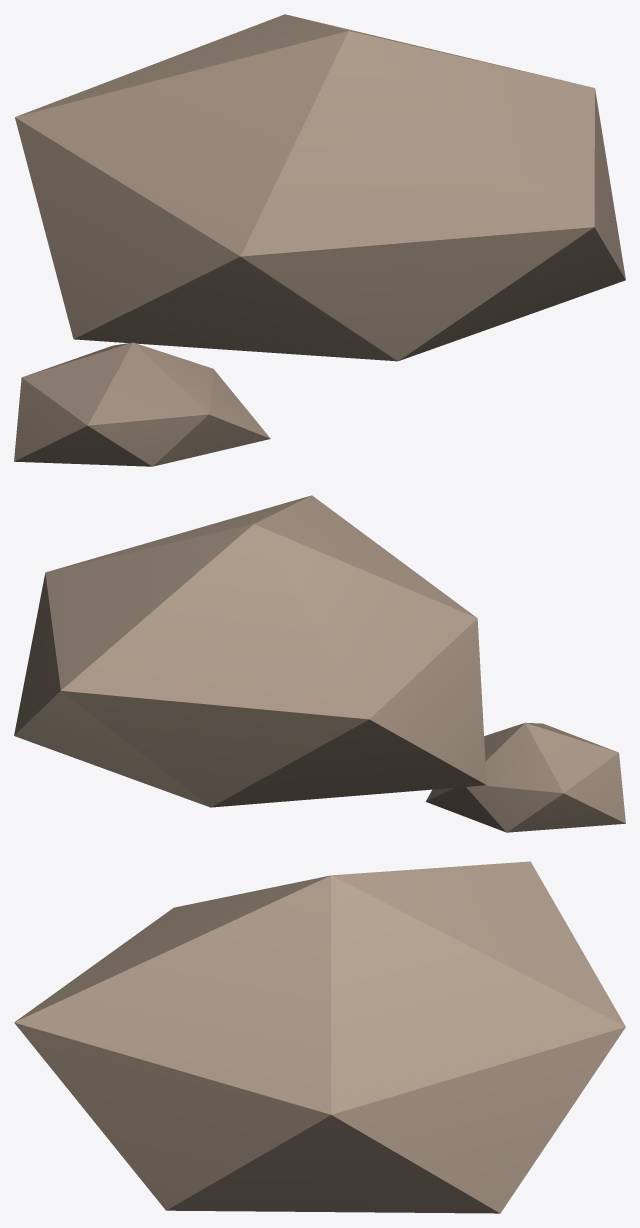
File: mil_rock_4.glb
3 views of the same model, one above another, from view 1: azimuth 30°, elevation 25°; view 2: azimuth 150°, elevation 25°; view 3: azimuth 270°, elevation 25° (orthographic). The views are drawn at different scales.
Parts seen in each view (by area): view 1: mil_rock_4; view 2: mil_rock_4; view 3: mil_rock_4.
Boxes of the visible parts, bbox=[...] form: mil_rock_4: bbox=[14, 14, 625, 466]; mil_rock_4: bbox=[14, 495, 625, 832]; mil_rock_4: bbox=[14, 861, 625, 1213].
Size of the model in its own units: 3.05 by 1.42 by 2.53.
